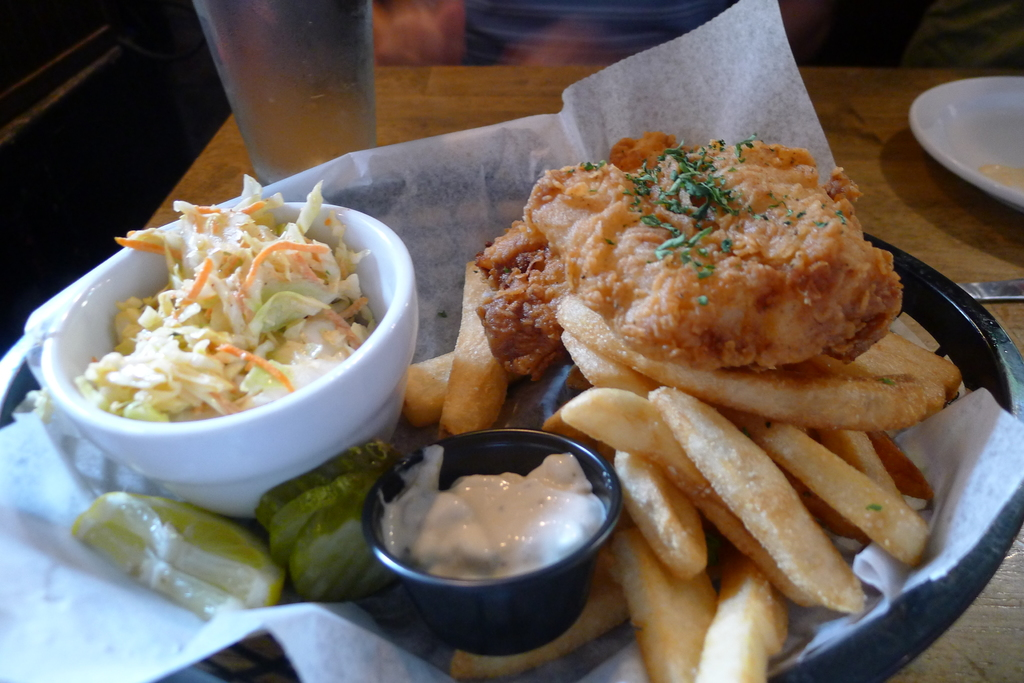French fries: (387, 243, 967, 682)
